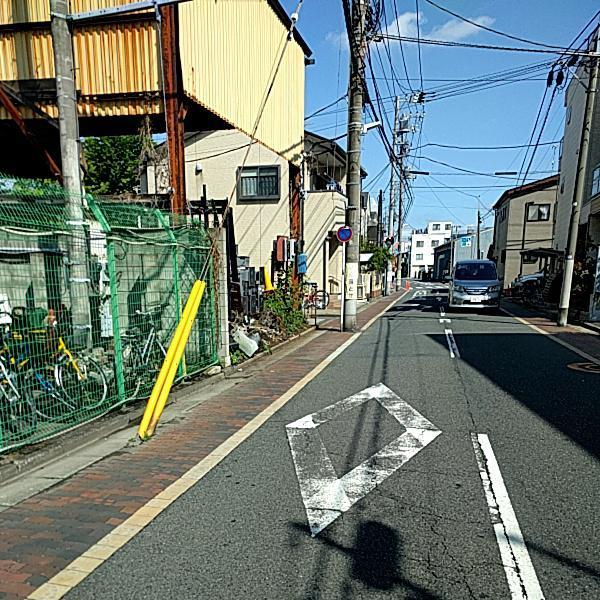D10: (308, 442, 483, 479)
D20: (368, 489, 512, 599)
D44: (281, 369, 446, 537)
